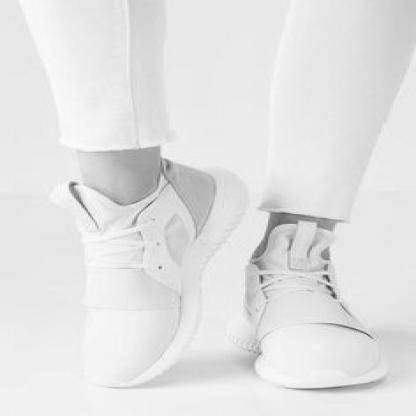ankle: (264, 263, 269, 268), (157, 199, 163, 203)
heel: (242, 307, 246, 313), (203, 172, 210, 174)
left_foot: (231, 225, 393, 390)
pinky: (87, 358, 90, 360), (372, 364, 375, 366)
right_foot: (48, 158, 232, 391)
toe: (130, 373, 134, 377), (282, 367, 287, 370)
